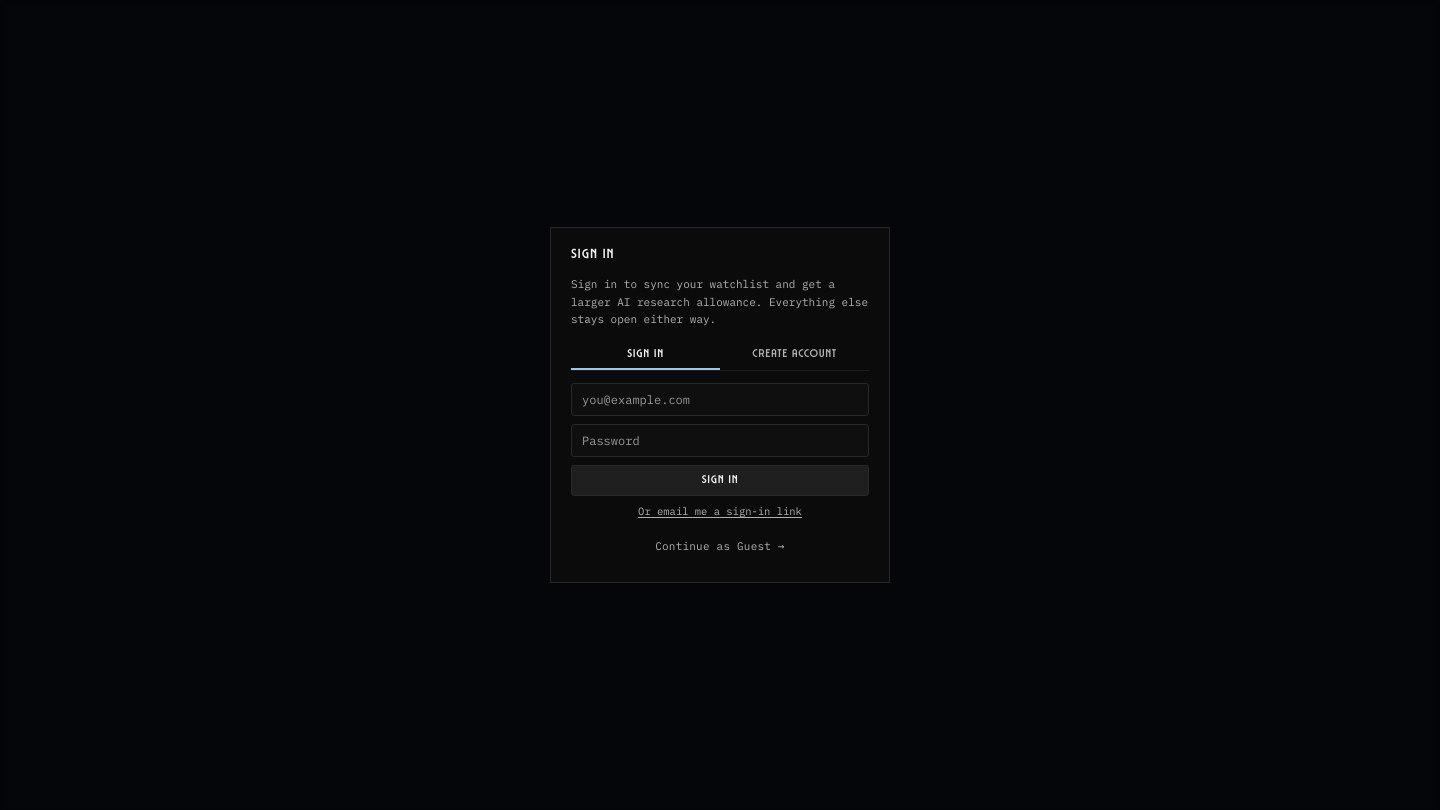
it: SignInDialog › shows an error message from a rejected submit and keeps the entered email
This screenshot has width=1440, height=810.
Type "a@b.com" into the field with placeholder "you@example.com" at (720, 399), box [571,383,869,416]
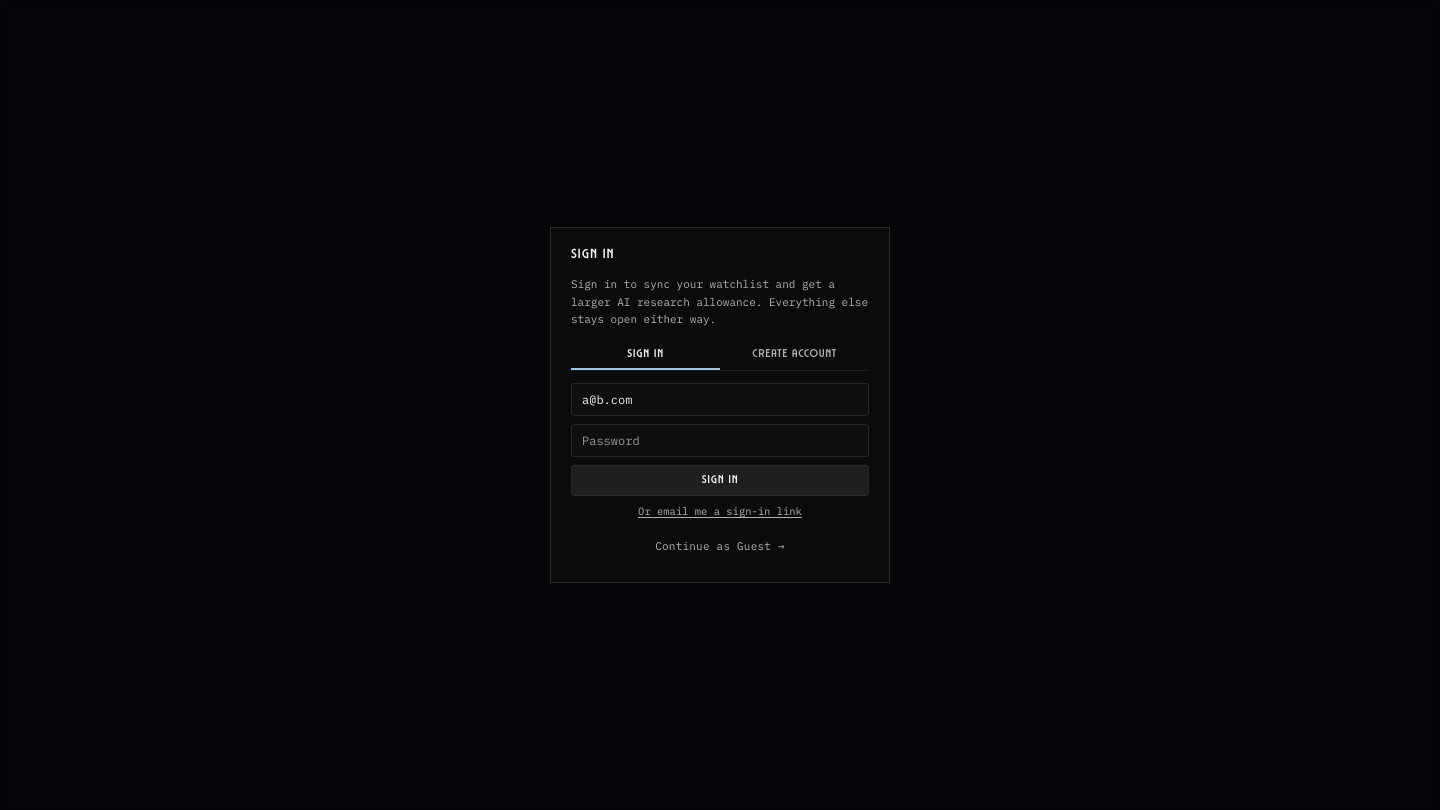
Type "wrong" into the password field with placeholder "Password" at (720, 440), box [571,424,869,457]
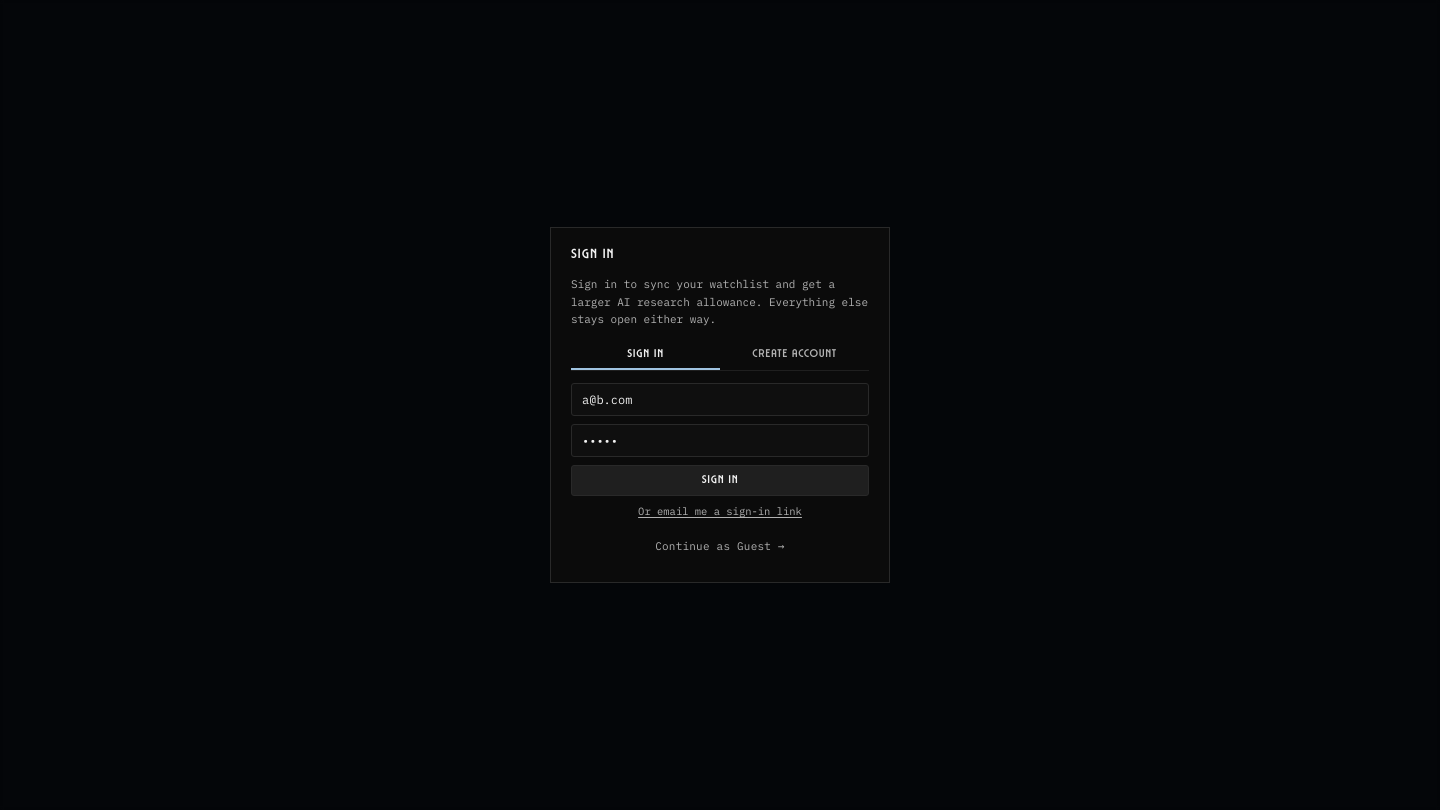
Click the 2nd button "Sign in" at (720, 480), box [571,465,869,496]
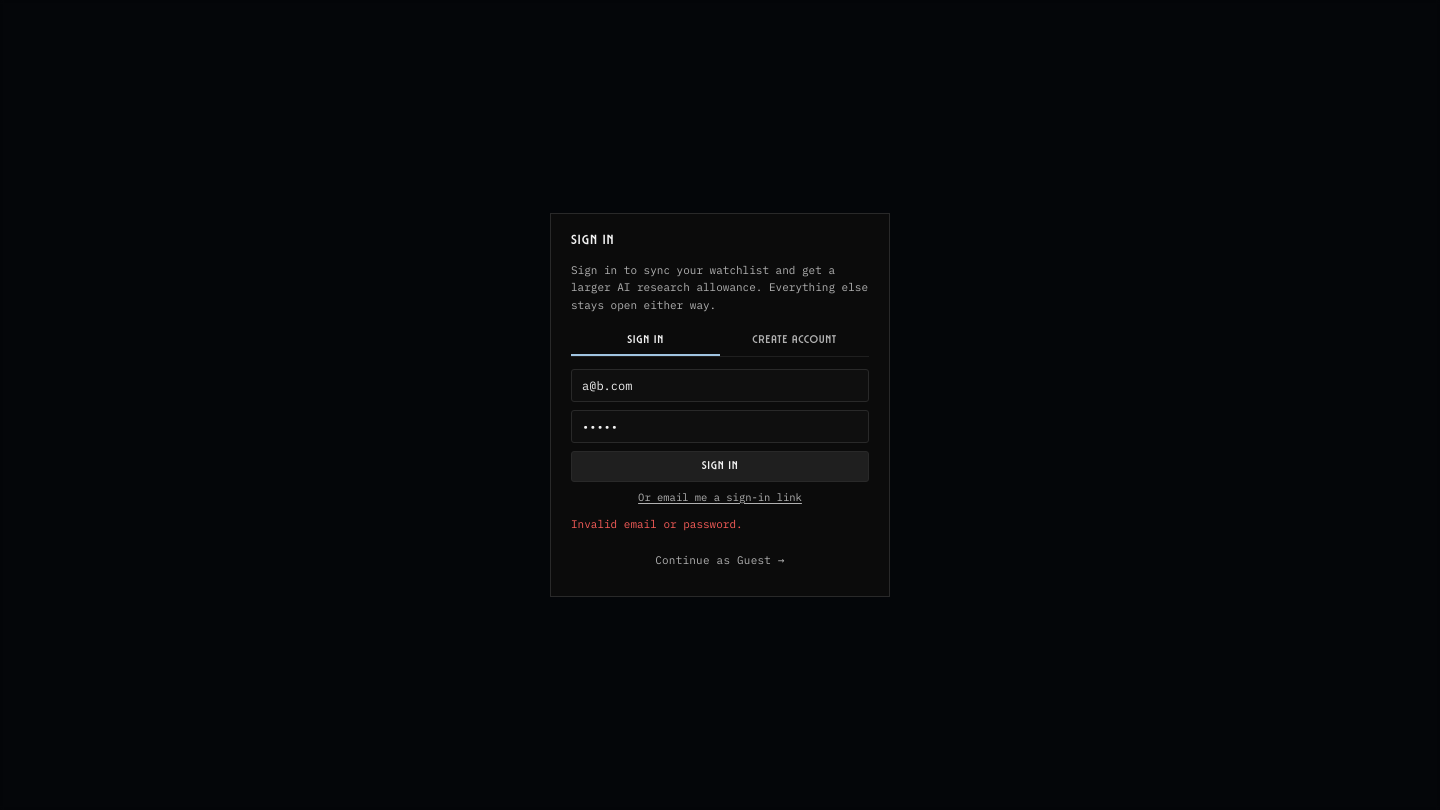
Now the text "Invalid email or password." is shown, box [571,517,743,531]
